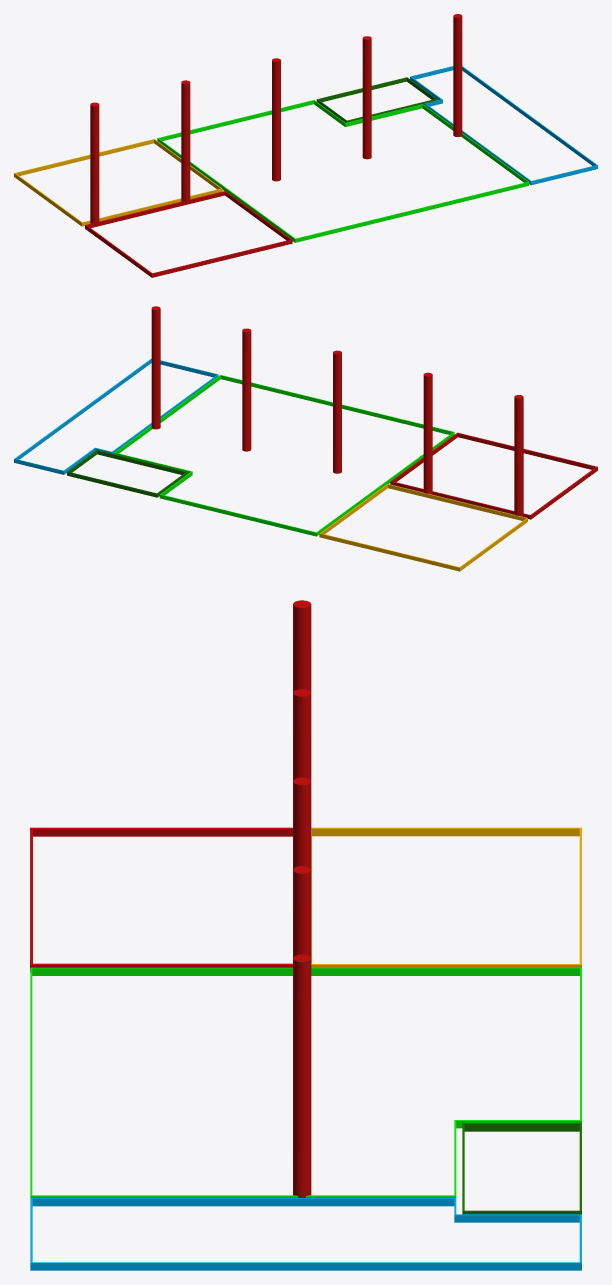
Rendered from REF_ZONES_v01.fbx.
The picture shows the model from 3 angles, top to bottom: view 1: azimuth 30°, elevation 25°; view 2: azimuth 150°, elevation 25°; view 3: azimuth 270°, elevation 25°; orthographic projection. The views are drawn at different scales.
Parts seen in each view (by area): view 1: SALA_05.001; view 2: SALA_05.001; view 3: SALA_05.001.
Part boxes in pixels (<box>): SALA_05.001: <box>14,14,597,277</box>; SALA_05.001: <box>14,306,597,571</box>; SALA_05.001: <box>30,600,581,1270</box>.
Size of the model in its own units: 1722 by 446 by 923.
